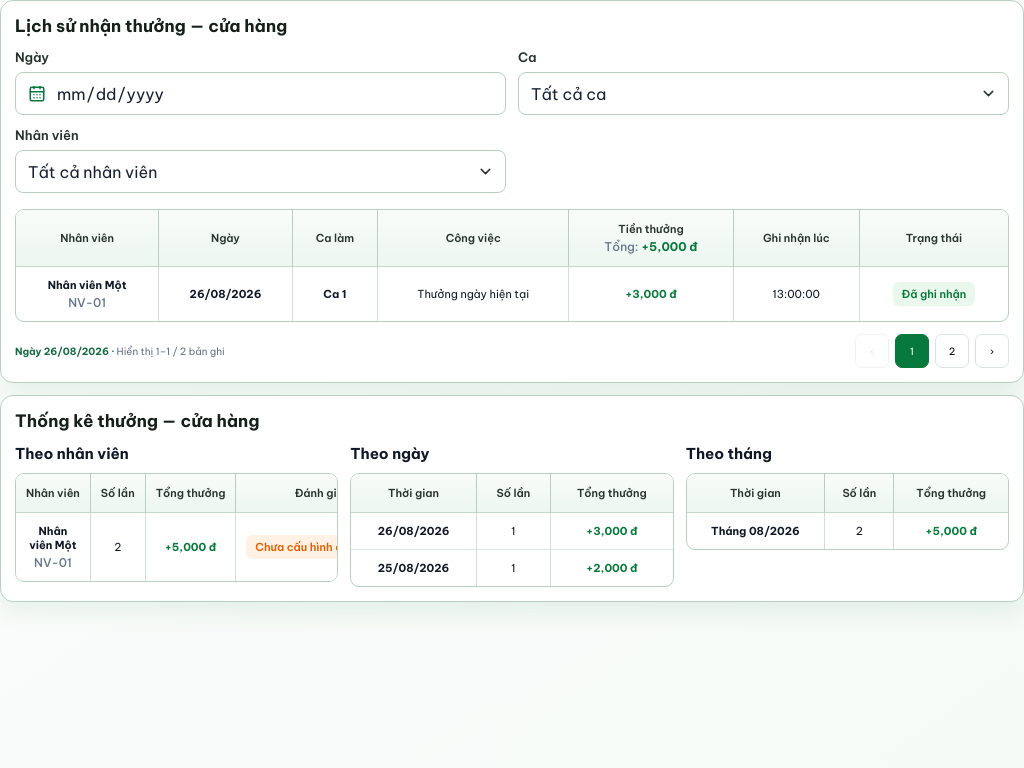
Test case: compensation pages › shows the current store reward date first and paginates older reward dates
Expected: the text "Thưởng ngày hiện tại" is shown, [378,266,569,321]
Expected: the text "Thưởng ngày cũ" is not shown
Step 1. Click the button named "Trang 2" → (952, 351), box [935,334,969,368]
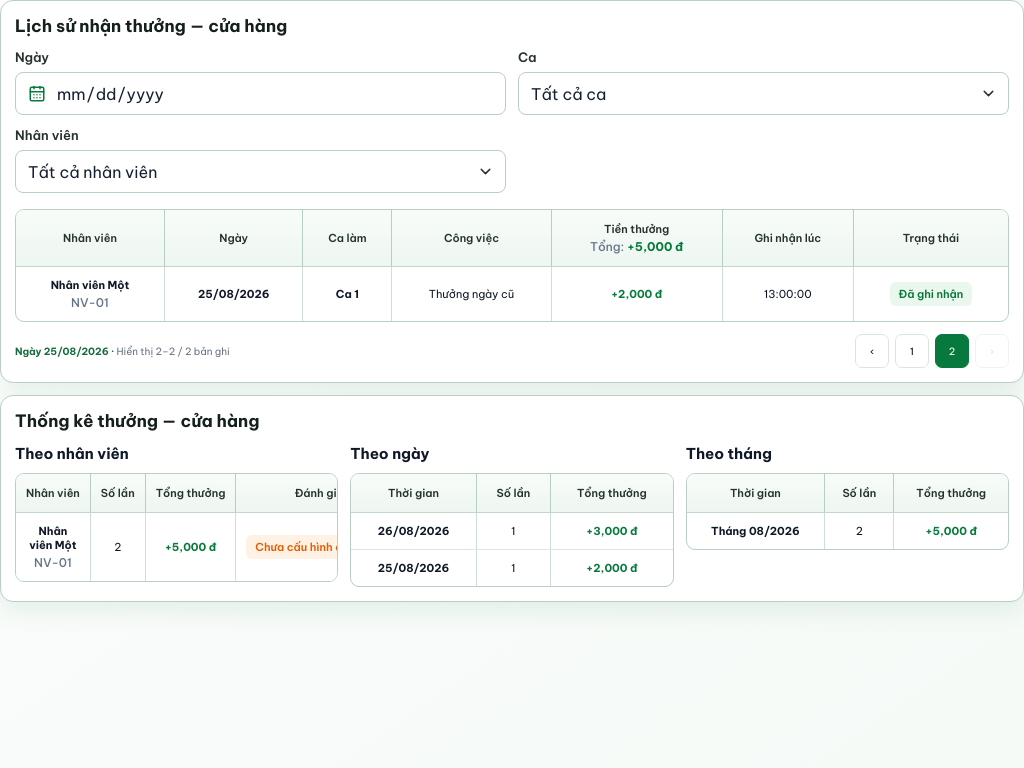
Expected: the text "Thưởng ngày cũ" is shown, [392,266,551,321]
